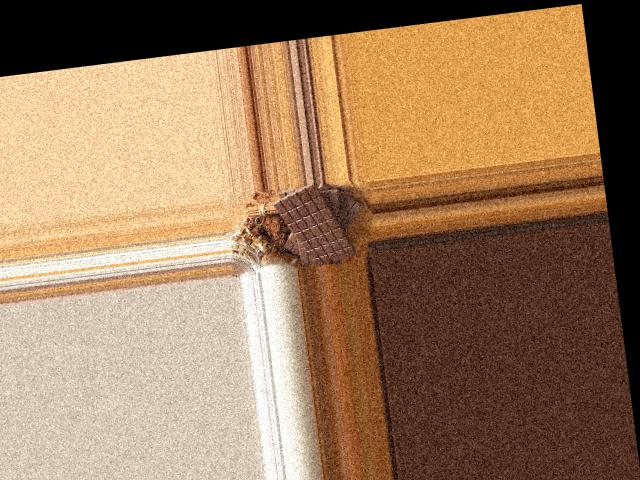chocolate: (267, 179, 357, 268)
